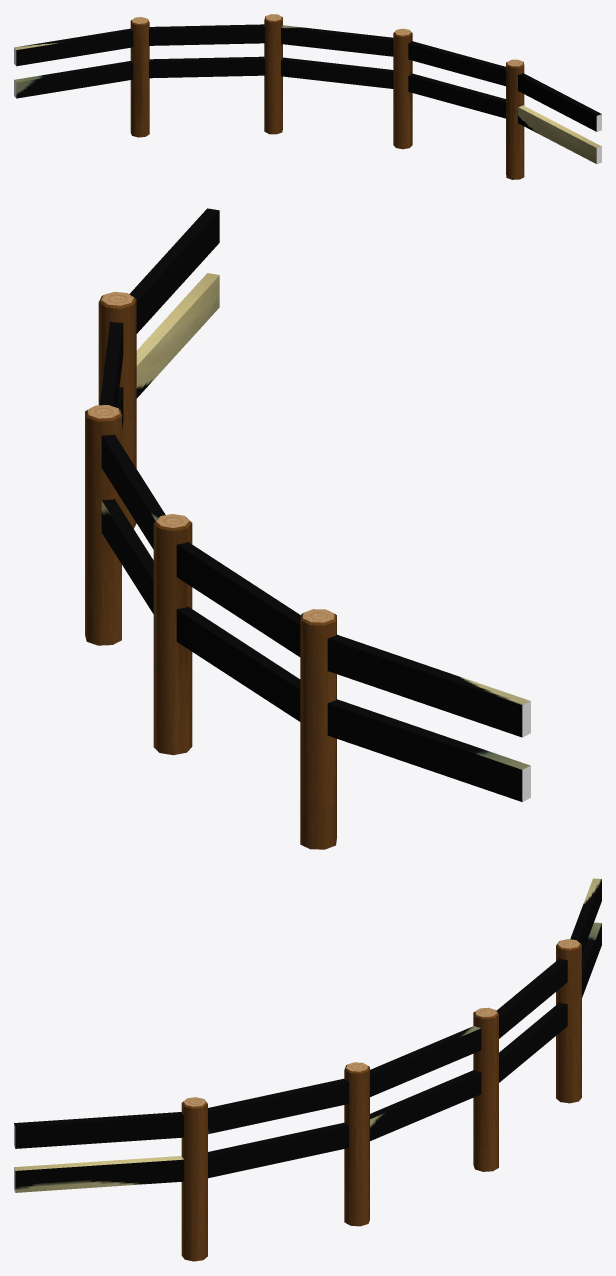
The model's file is Path_Fence_Curve_3x3.fbx.
3 views of the same model, one above another, from view 1: azimuth 30°, elevation 25°; view 2: azimuth 150°, elevation 25°; view 3: azimuth 270°, elevation 25° (orthographic). The views are drawn at different scales.
Parts seen in each view (by area): view 1: Path_Fence_Curve_3x3; view 2: Path_Fence_Curve_3x3; view 3: Path_Fence_Curve_3x3.
Boxes of the visible parts, left/top/right/bottom form: Path_Fence_Curve_3x3: left=14, top=14, right=601, bottom=179; Path_Fence_Curve_3x3: left=85, top=208, right=530, bottom=849; Path_Fence_Curve_3x3: left=14, top=878, right=601, bottom=1261.
Bounding box in the file's own units: 303 × 87.5 × 303.
